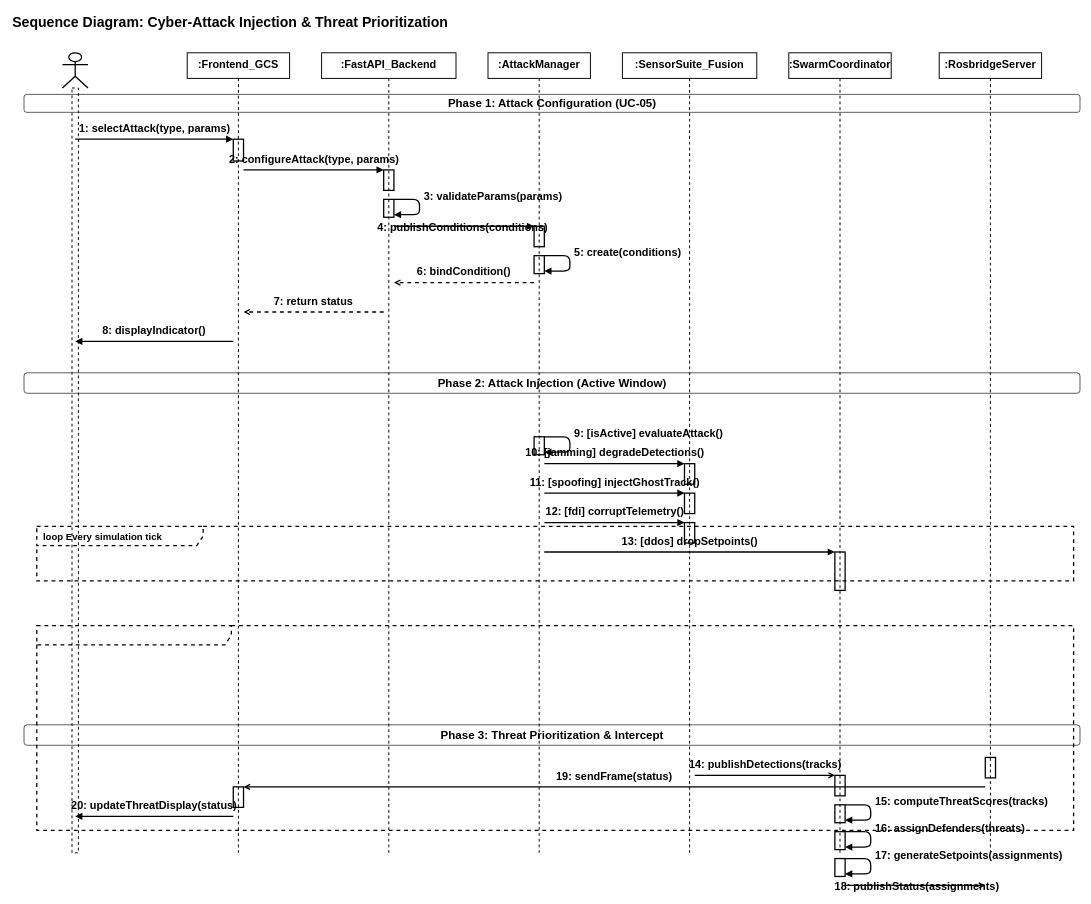
The diagram is 1091 pixels wide and 904 high, and some of its shapes have lost their labels. The shapes that lost their labels are listed below. From the top down, each one's centre as x and y in pixels, then its label:
At (74,70): ":GCS_Operator".
At (555,728): "loop Every guidance tick (10 Hz)".
